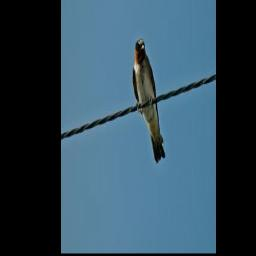Swallow: (133, 35, 167, 163)
